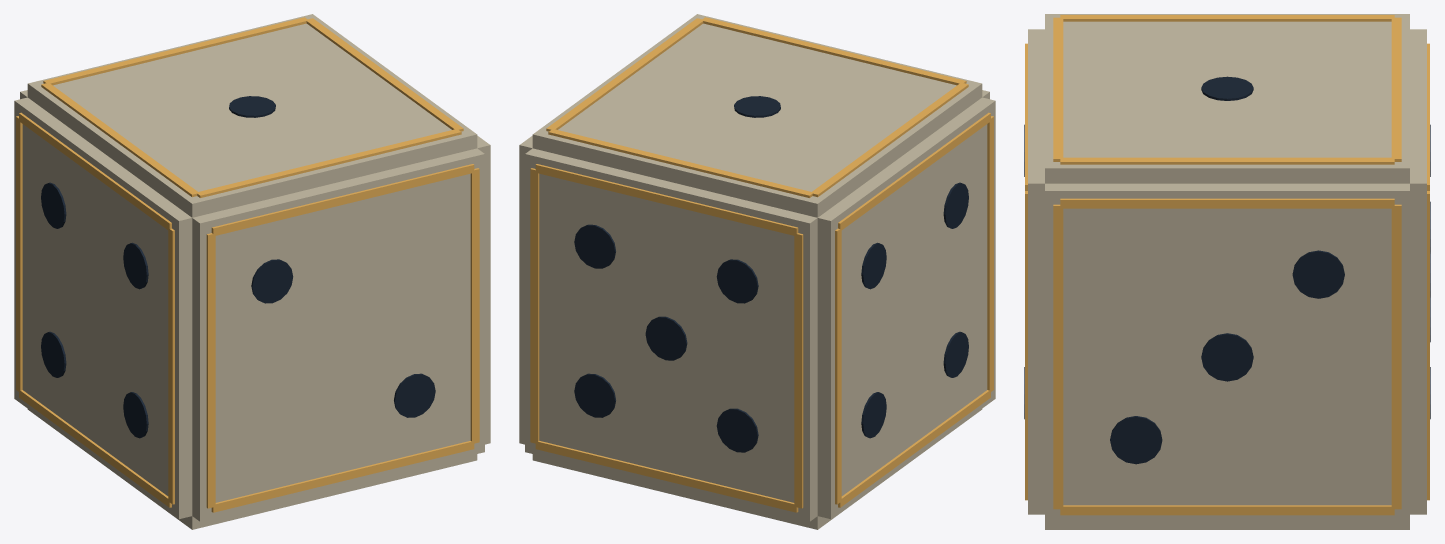
The model's file is space_die_cream.glb.
3 renders of one model, left to right at view 1: azimuth 30°, elevation 25°; view 2: azimuth 150°, elevation 25°; view 3: azimuth 270°, elevation 25°, orthographic. The views are drawn at different scales.
Visible parts, largest first — view 1: FixedDetails, BrassTrim; view 2: FixedDetails, BrassTrim; view 3: FixedDetails, BrassTrim.
Boxes of the visible parts, bbox=[...] form: FixedDetails: bbox=[14, 14, 490, 529]; BrassTrim: bbox=[16, 17, 479, 512]; FixedDetails: bbox=[519, 14, 995, 529]; BrassTrim: bbox=[530, 17, 993, 512]; FixedDetails: bbox=[1024, 14, 1430, 529]; BrassTrim: bbox=[1025, 15, 1429, 515].
Size of the model in its own units: 0.668 by 0.668 by 0.668.
